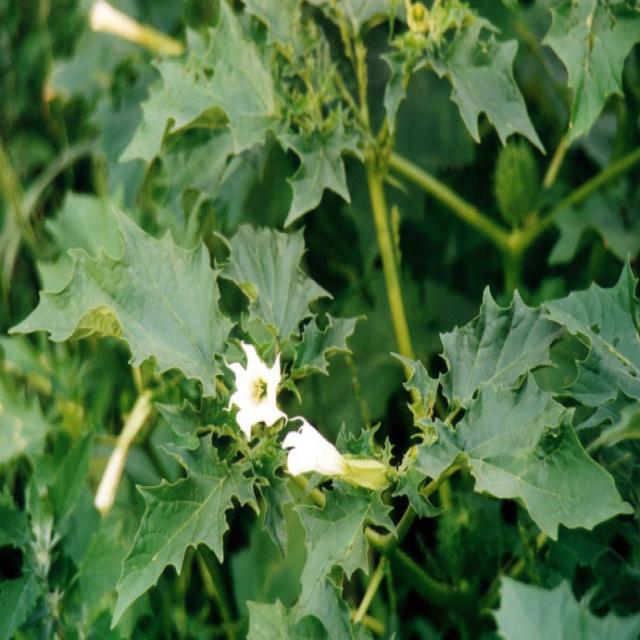Poisonous-Datura_Stramonium: (147, 0, 640, 316), (430, 256, 640, 553), (206, 315, 440, 542)
